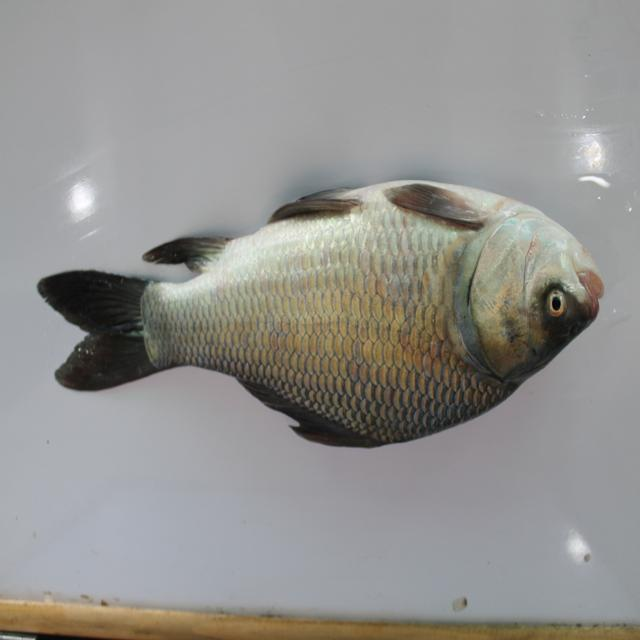Catla: (24, 163, 609, 465)
